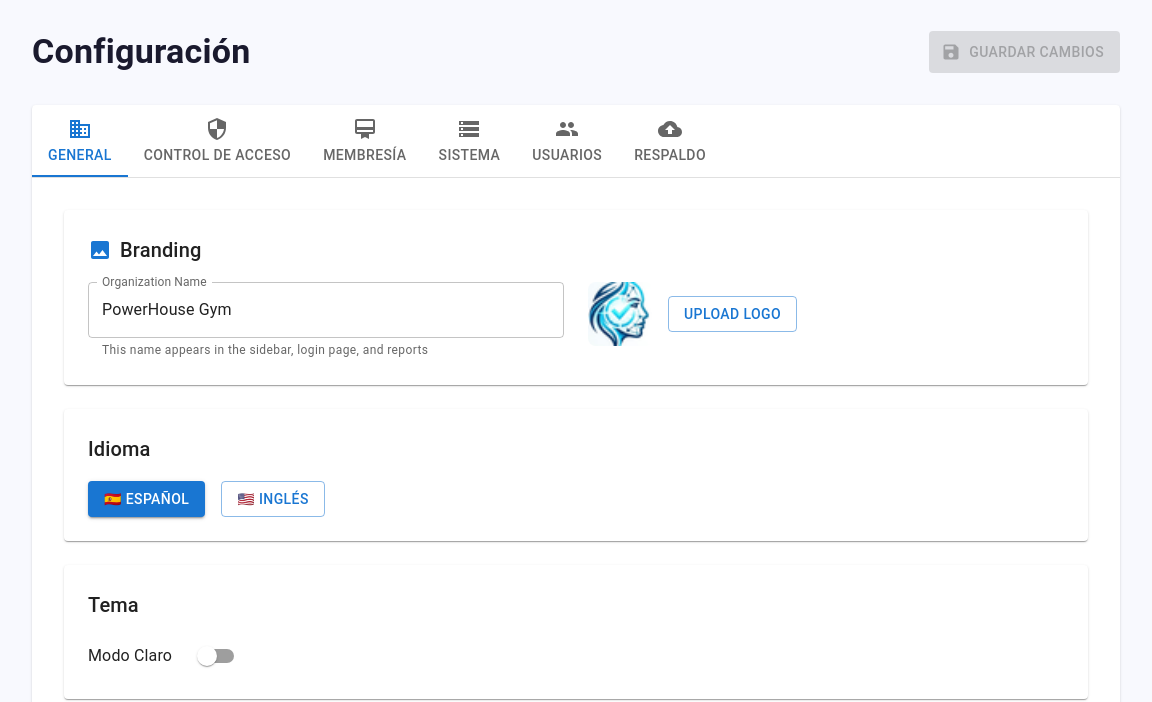
Test: Settings — Backup tab (remote backup config) › admin: Test is re-enabled after a save whose response normalizes the submitted values
Click the tab "Respaldo" at {"x": 670, "y": 141}, box [618,105,722,177]
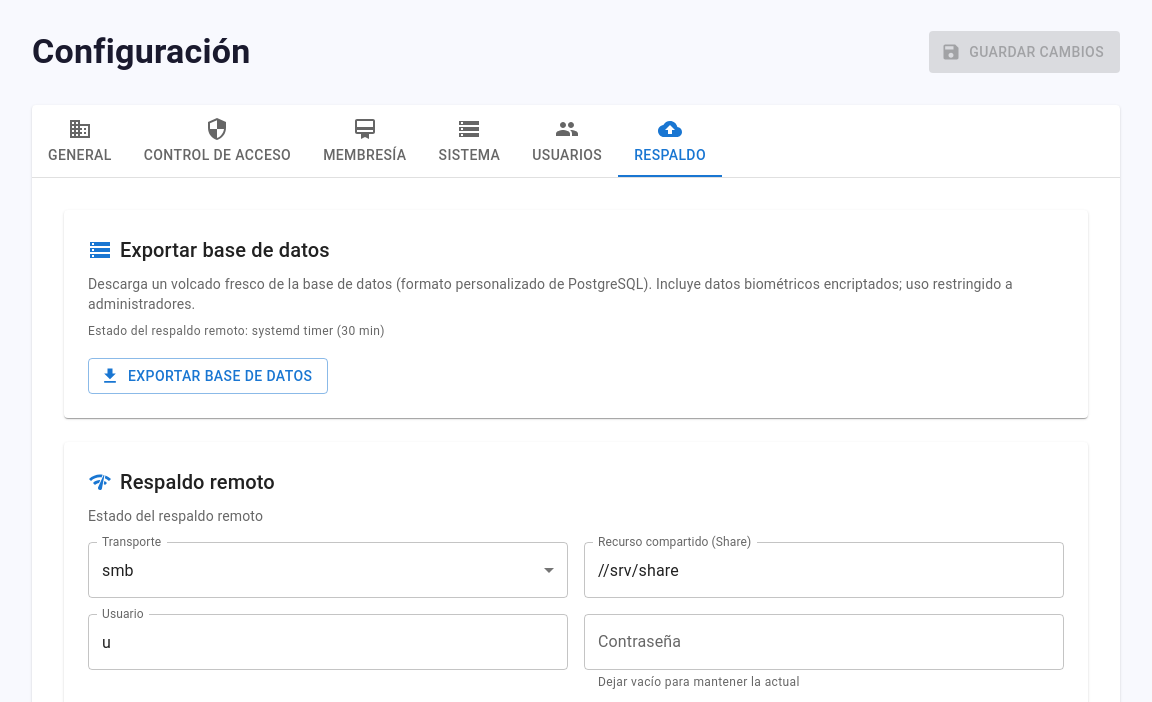
Replace the text in the field labelled "Recurso compartido (Share)" with "srv/other" at {"x": 824, "y": 570}, box [584,542,1064,598]
(page scrolled)
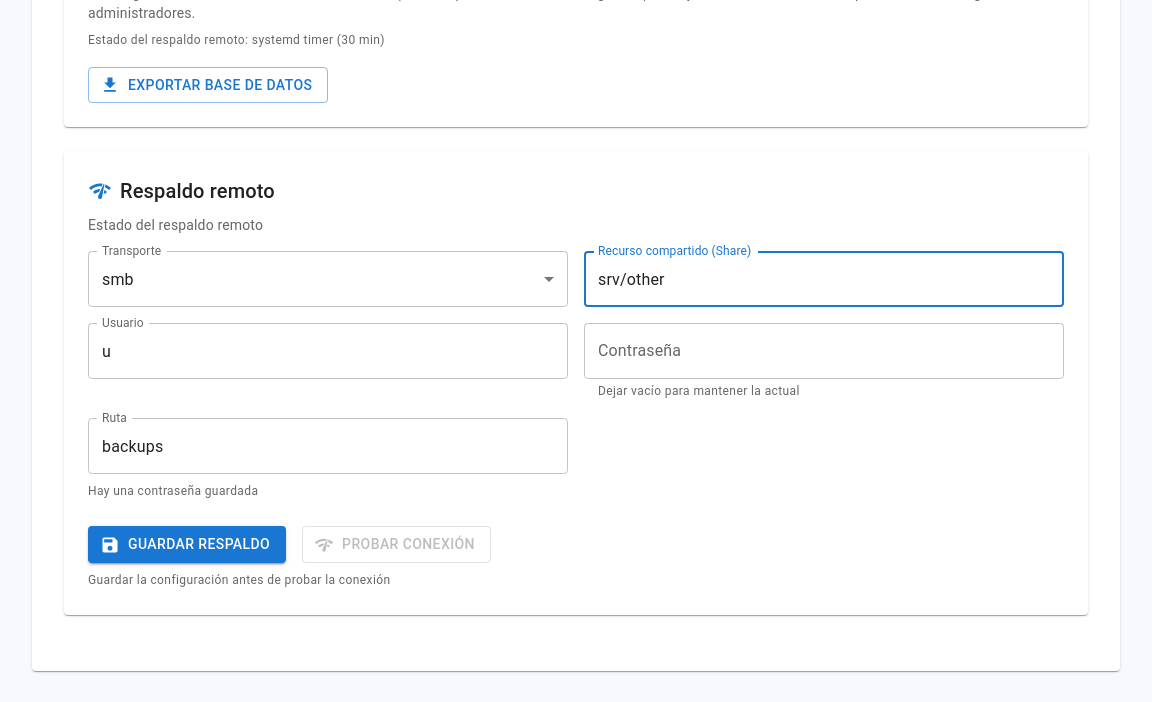
Expected: the button "Probar conexión" is disabled, [302,526,491,563]
Click the button "Guardar respaldo" at {"x": 187, "y": 545}, box [88,526,286,563]
(page scrolled)
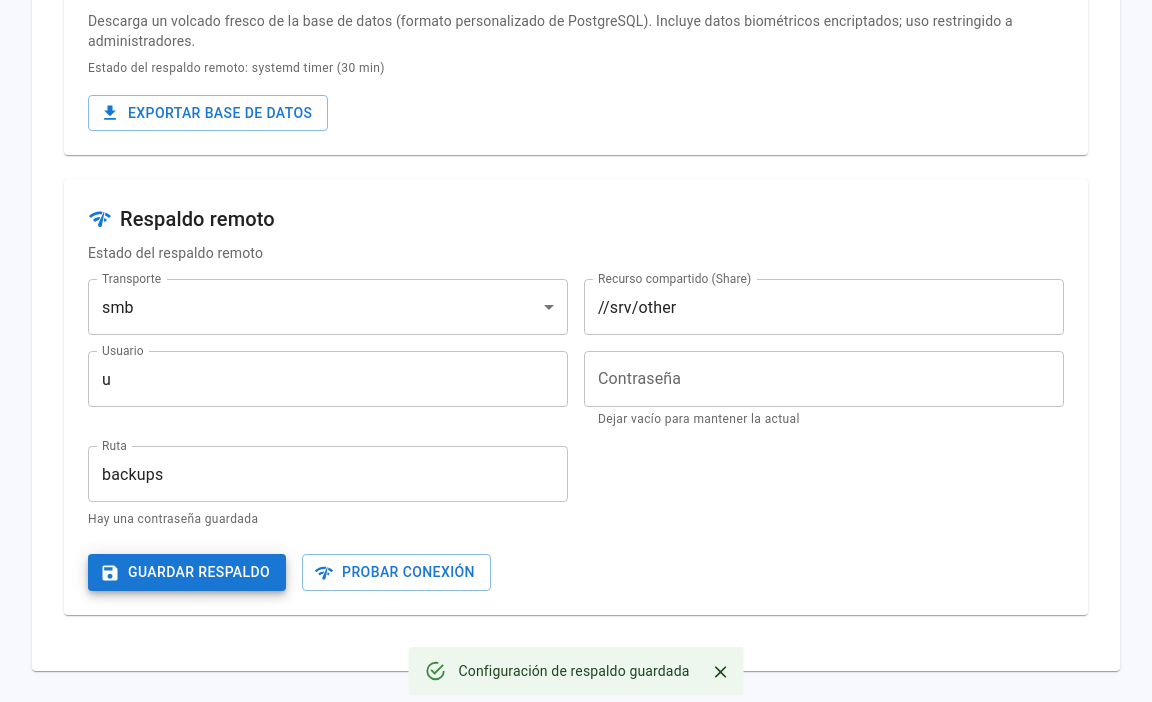
Expected: the button "Probar conexión" is enabled, [302,554,491,591]
Expected: the field labelled "Recurso compartido (Share)" holds "//srv/other", [584,279,1064,335]
